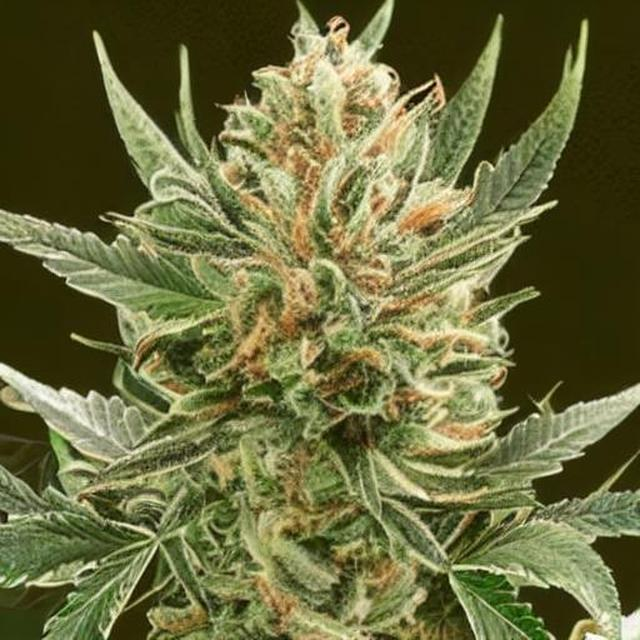Marijuana Plant: (0, 37, 639, 640)
